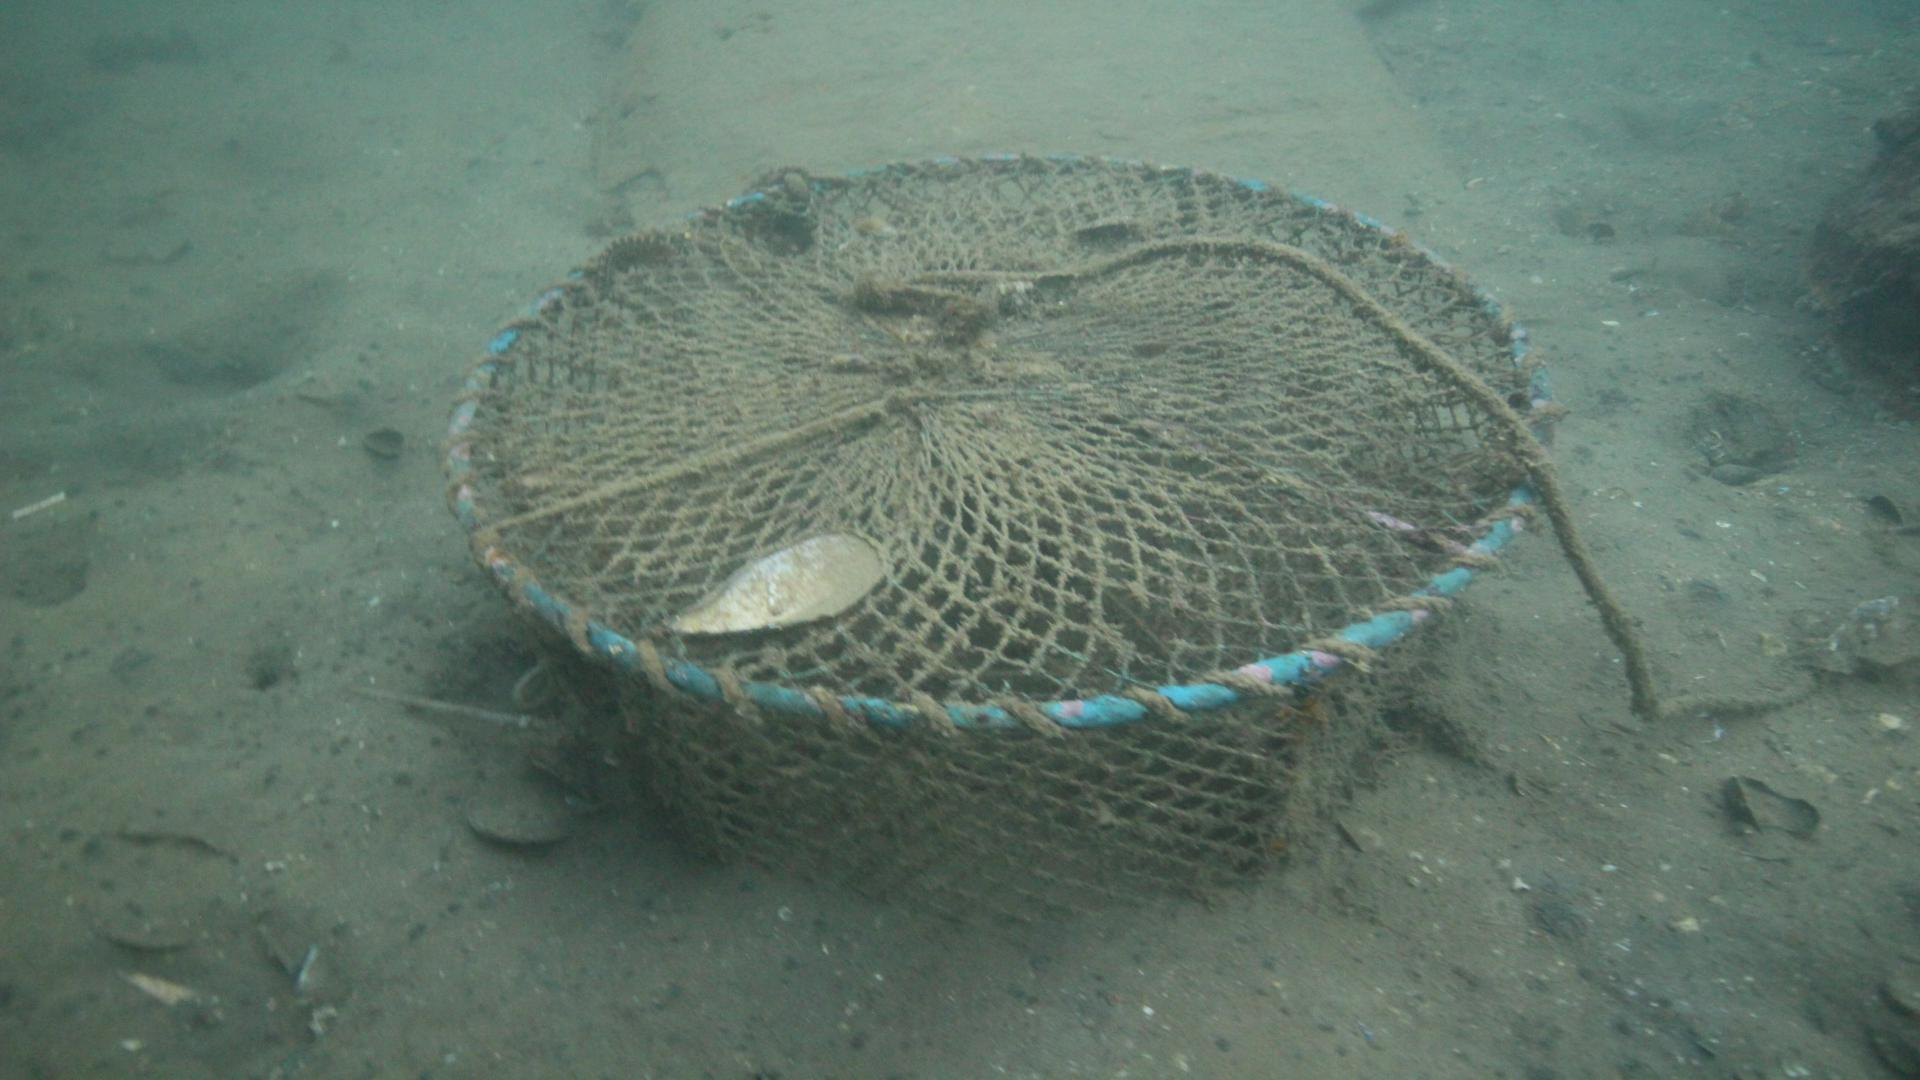circular fish trap: (436, 153, 1549, 928)
